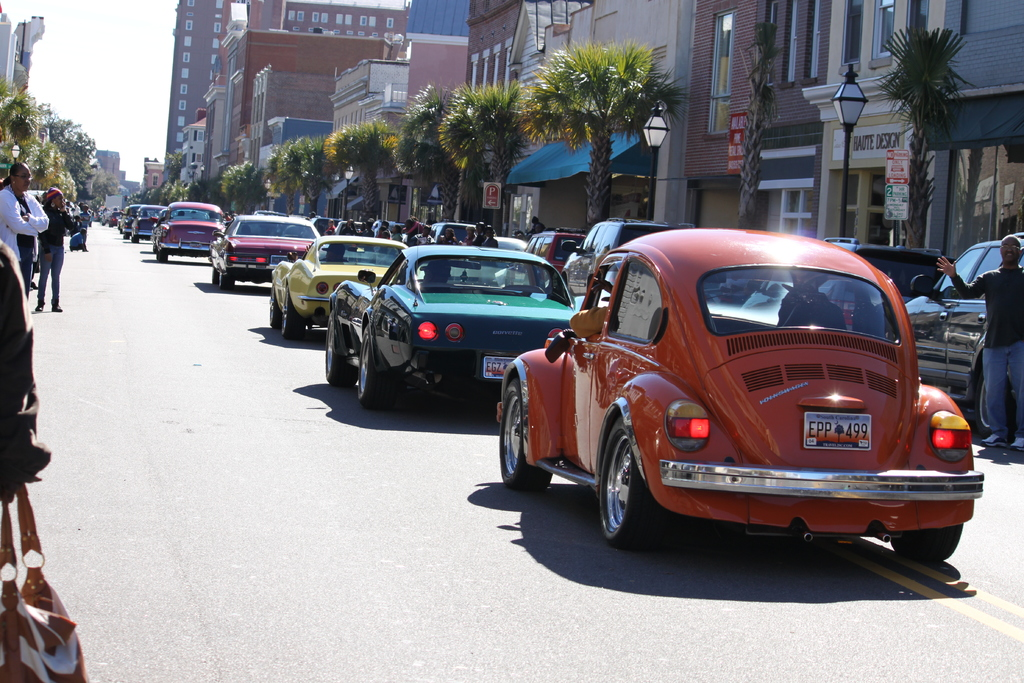mobil: (482, 226, 986, 562)
